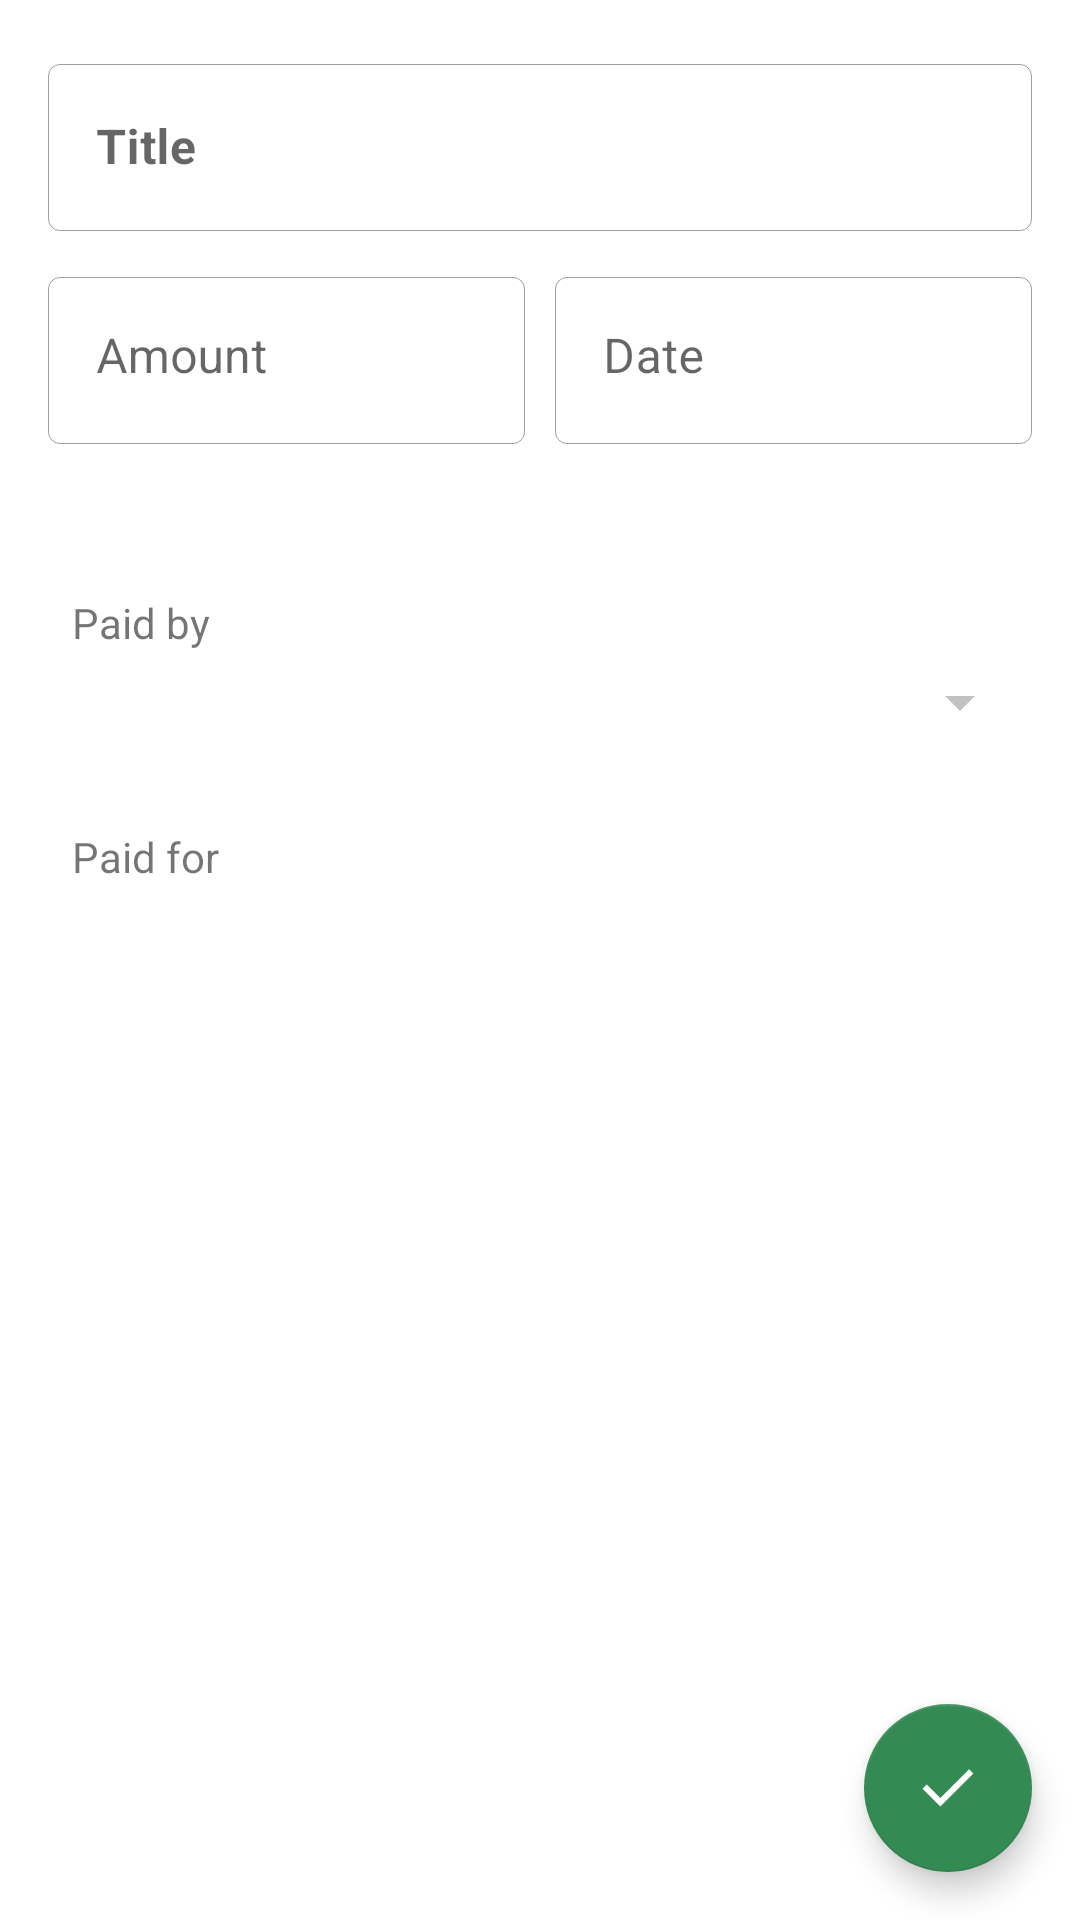

Where to tap for icons on this 1080x1920 app screen, as (x,y):
Save Expense: (948,1788)
